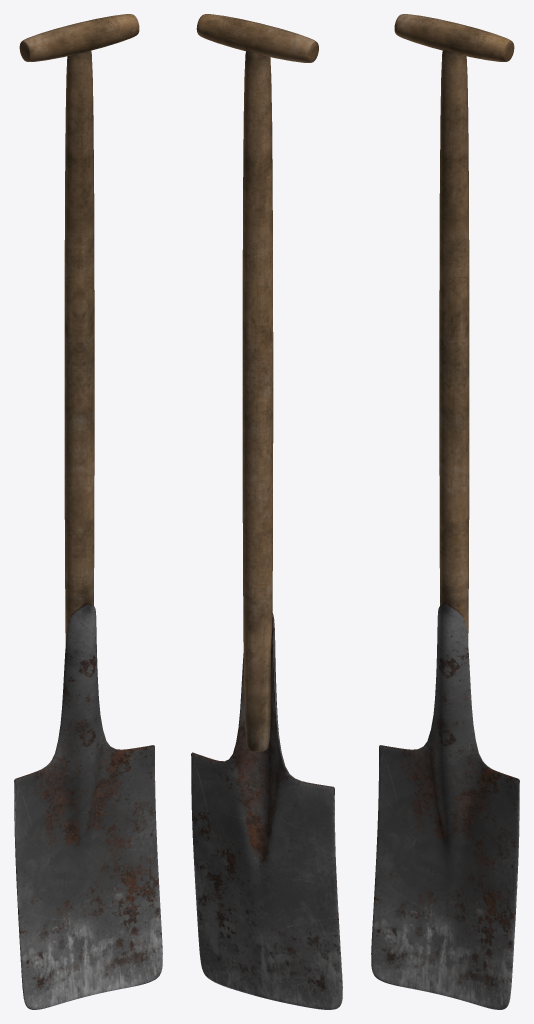
The model's file is rusted_spade.fbx.
The picture shows the model from 3 angles, left to right: view 1: azimuth 30°, elevation 25°; view 2: azimuth 150°, elevation 25°; view 3: azimuth 330°, elevation 25°; orthographic projection. The views are drawn at different scales.
Visible parts, largest first — view 1: head, body, handle; view 2: head, body, handle; view 3: head, body, handle.
Part boxes in pixels (x1,y1,x2,y2): head: [14, 603, 162, 1009]; body: [64, 50, 94, 643]; handle: [19, 14, 139, 61]; head: [191, 613, 342, 1009]; body: [242, 51, 273, 751]; handle: [196, 14, 318, 62]; head: [371, 603, 519, 1009]; body: [439, 50, 469, 643]; handle: [394, 14, 514, 61].
Size of the model in its own units: 16.81 by 110 by 4.56.
